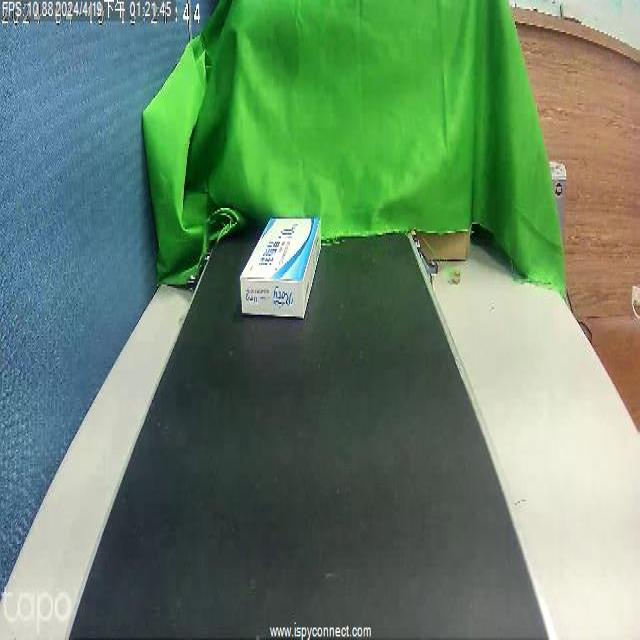box: (240, 200, 333, 339)
